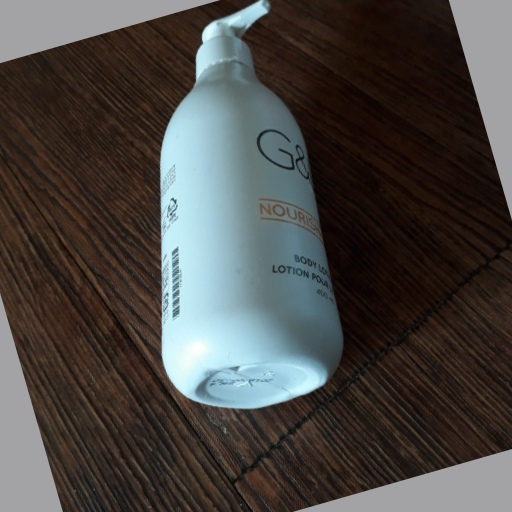Plastic_3: (154, 1, 344, 405)
